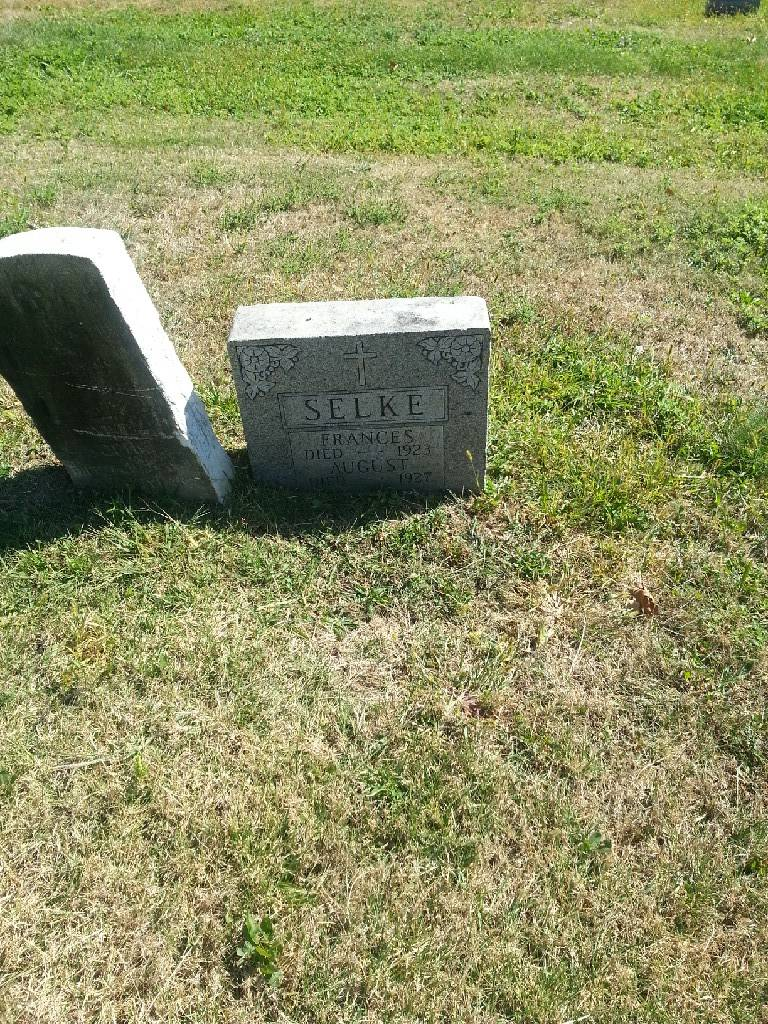upright: (201, 270, 523, 525)
